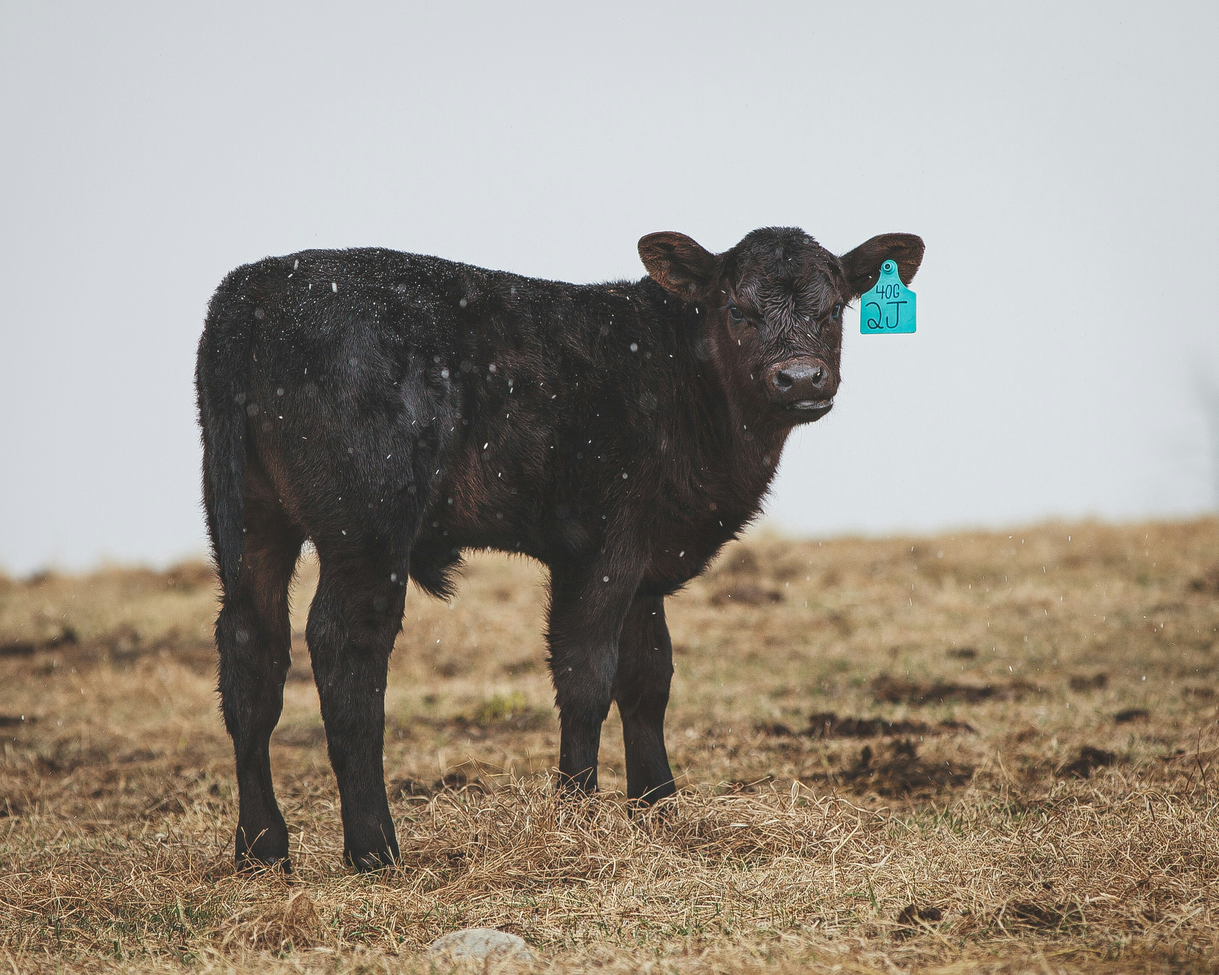bovino: (195, 224, 927, 873)
